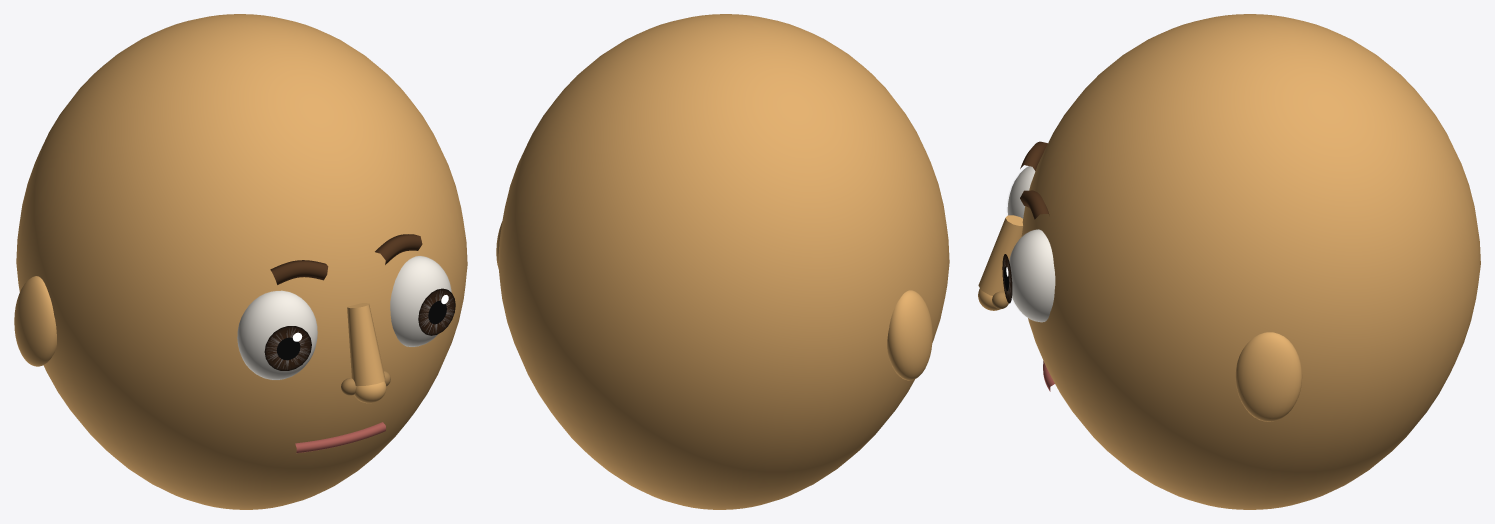
File: 08-courts.glb
The picture shows the model from 3 angles, left to right: view 1: azimuth 30°, elevation 25°; view 2: azimuth 150°, elevation 25°; view 3: azimuth 270°, elevation 25°; orthographic projection.
Size of the model in its own units: 0.3087 by 0.321 by 0.3166.
9 materials, 1 textured.
